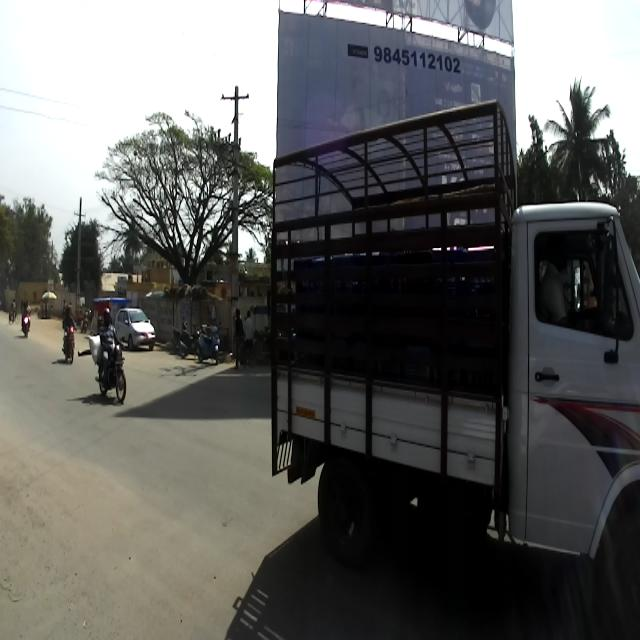motorcycle ahead at: (89, 339, 130, 414)
truck ahead at: (267, 110, 640, 613)
